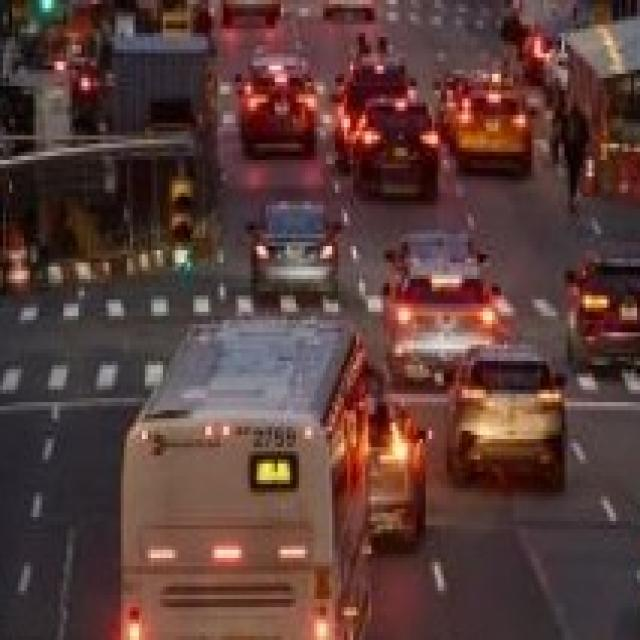bus: (114, 307, 371, 640)
car: (442, 343, 568, 492), (386, 229, 500, 377), (347, 382, 435, 552), (558, 246, 640, 378), (244, 200, 346, 296), (350, 97, 442, 198), (451, 86, 538, 179), (240, 61, 323, 153)
